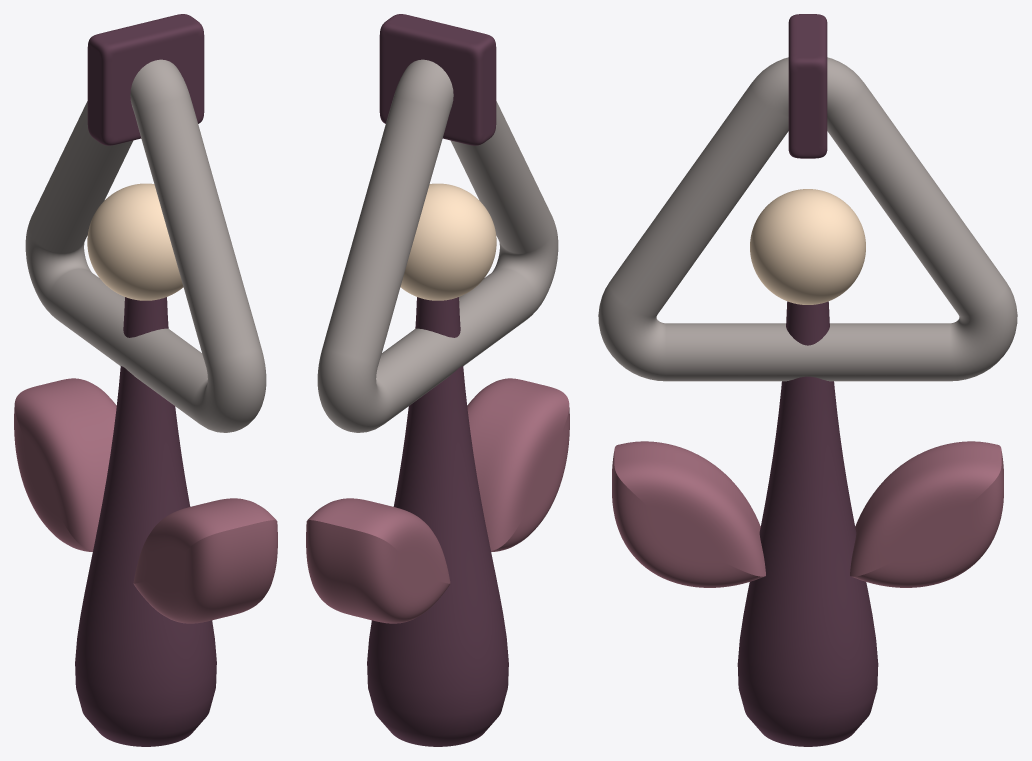
File: triangle_3.fbx
3 renders of one model, left to right at view 1: azimuth 30°, elevation 25°; view 2: azimuth 150°, elevation 25°; view 3: azimuth 270°, elevation 25°, orthographic.
Visible parts, largest first — view 1: 圖層 05; view 2: 圖層 05; view 3: 圖層 05.
Boxes of the visible parts, x1,y1,x2,y2 form: 圖層 05: [14, 14, 277, 746]; 圖層 05: [306, 14, 569, 746]; 圖層 05: [598, 14, 1017, 746].
Bounding box in the file's own units: 726 × 4000 × 2164.
